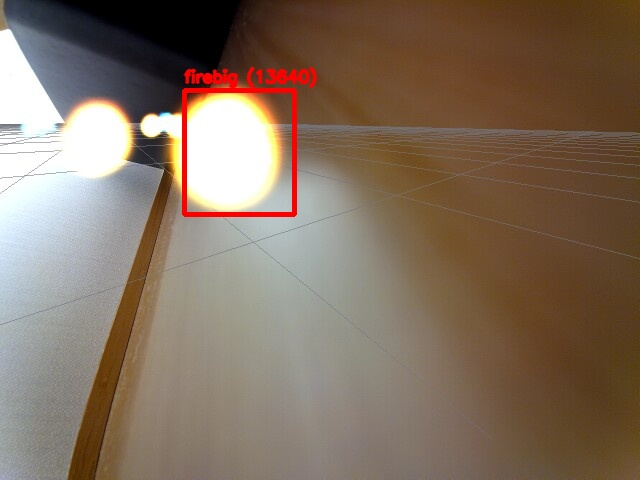firebig: (184, 90, 294, 214)
